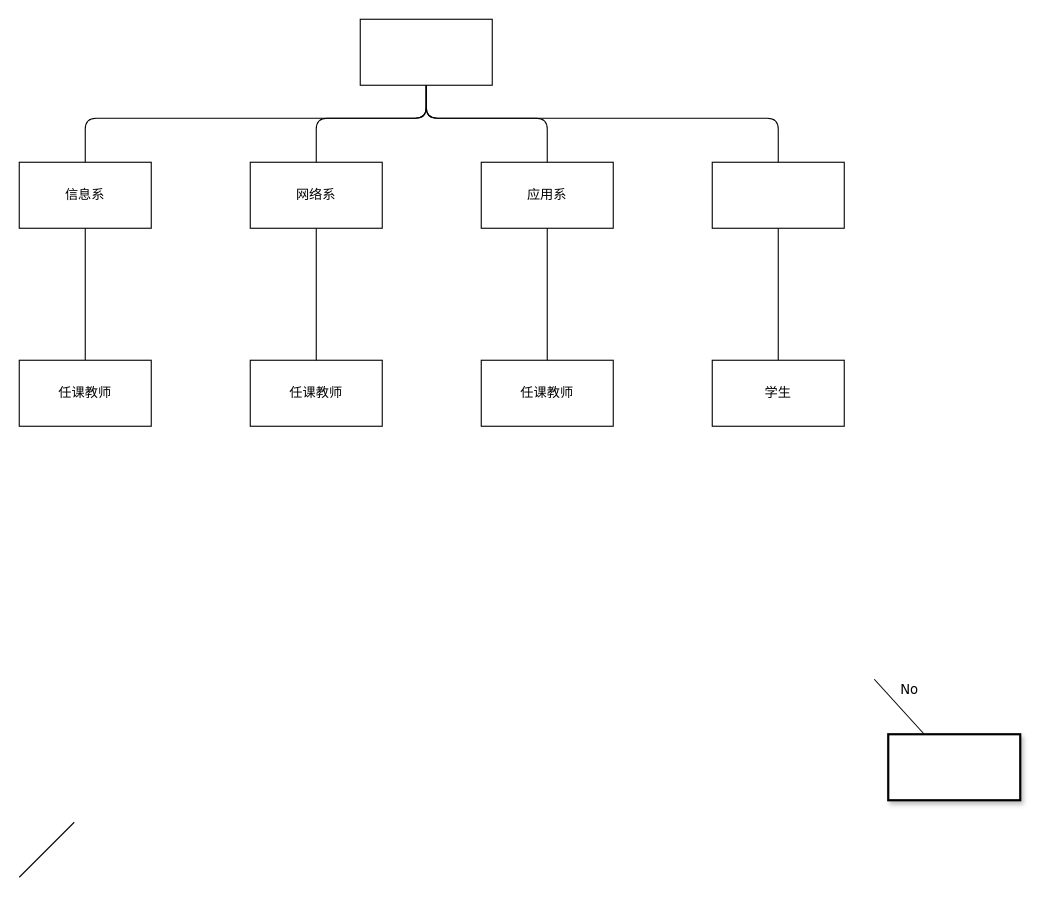
Some shapes in this 1047 by 898 pixel diagram are drawn without their labels. The centre of each missing label's shape, as x and y in pixels:
Action: (x=954, y=768)
学院办公室: (x=425, y=51)
辅导员: (x=777, y=194)
